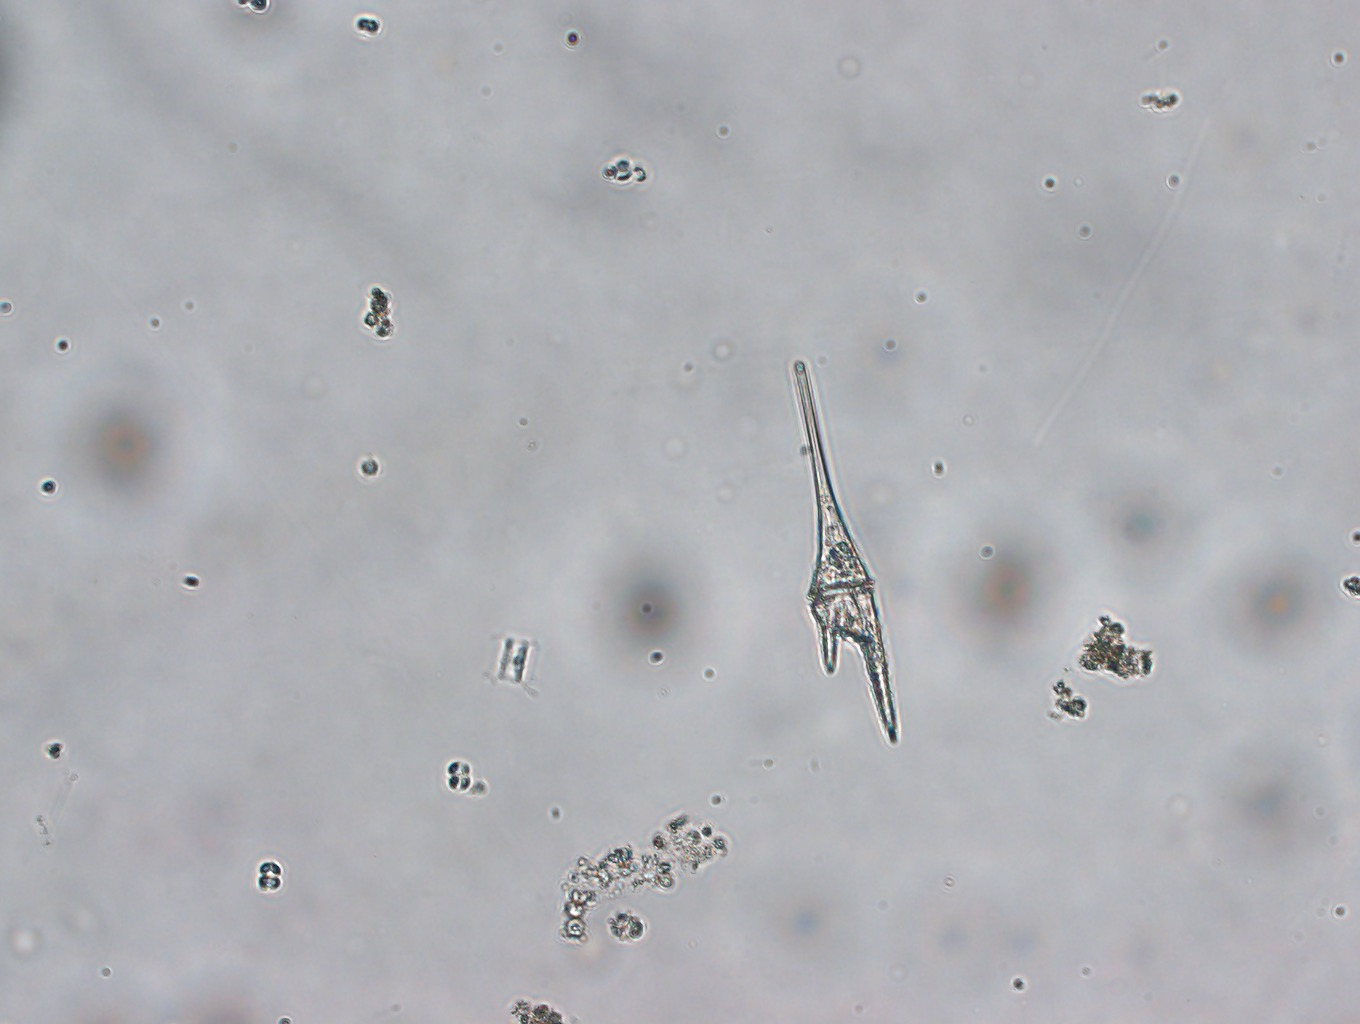ceratium furca: (782, 353, 902, 744)
